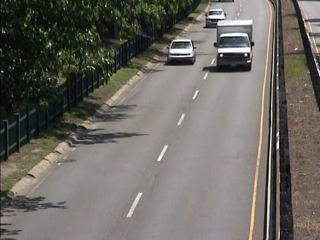car: (167, 38, 197, 66), (204, 7, 229, 30)
truck: (215, 19, 256, 72)
